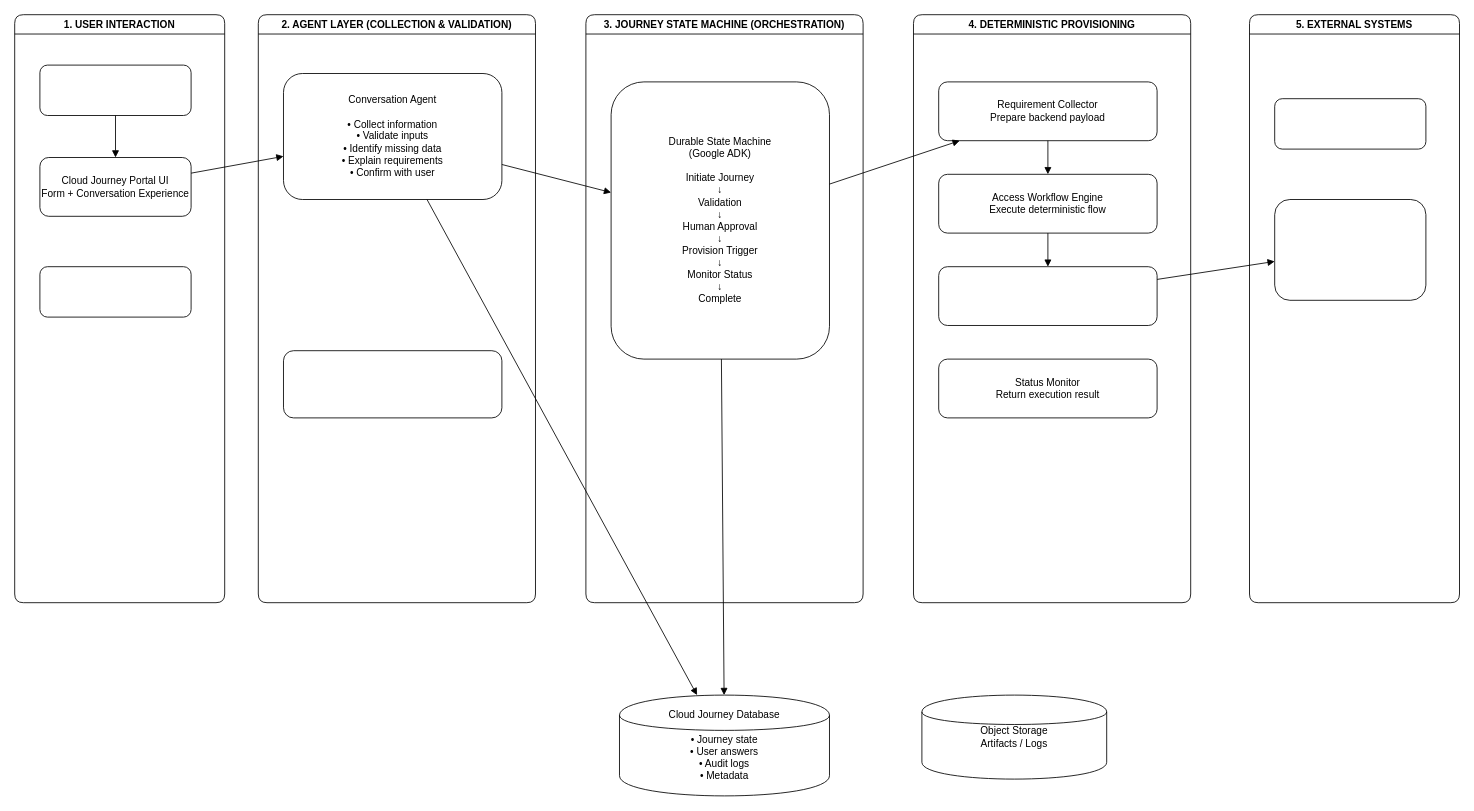
Some shapes in this 1474 by 811 pixel diagram are drawn without their labels. The shapes that lost their labels are listed below. From the top down, each one's centre as x and y in pixels, then its label:
At [115,90]: "User (SSO via mySSO)".
At [1350,123]: "Cloud Services MCP Server".
At [1350,249]: "STS Insights AD / Entra ID CNMS App Factory".
At [115,291]: "Submit Request Initial Data Captured".
At [1047,296]: "App Factory Adapter Generate file / API call".
At [392,384]: "Agent Validates & Confirms All required data collected".
